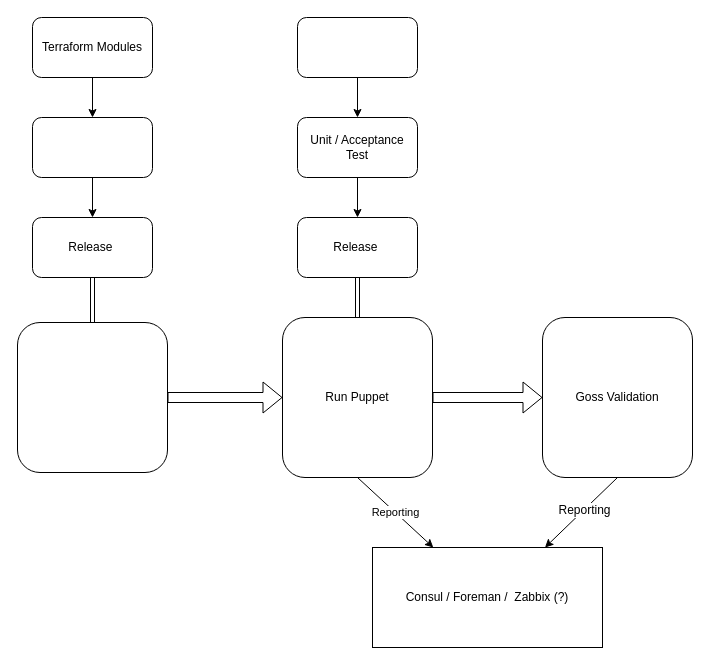
The diagram is 710 pixels wide and 665 high, and some of its shapes have lost their labels. The shapes that lost their labels are listed below. From the top down, each one's centre as x and y in pixels, then its label:
the point at 357,47: Puppet Modules
the point at 92,147: Unit / Integration Test
the point at 92,397: Sites (AKL AU3 etc)
